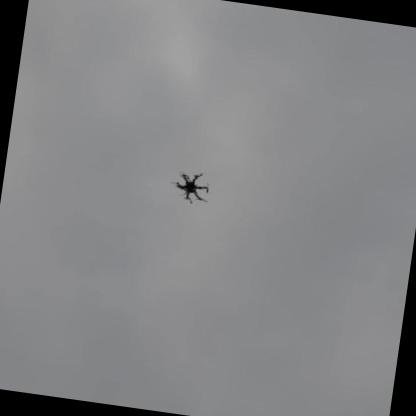drone: (166, 165, 218, 207)
